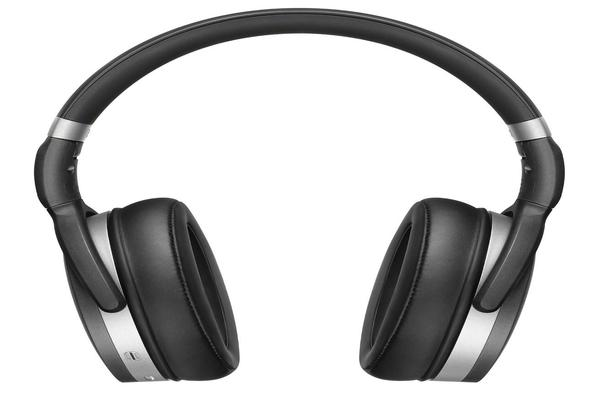headphone: (9, 23, 585, 393)
